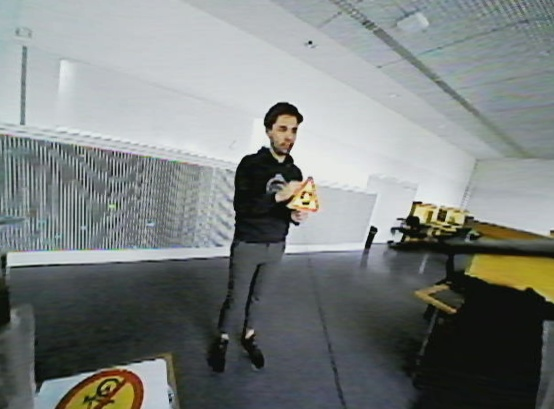roundabout_warning: (286, 173, 323, 215)
